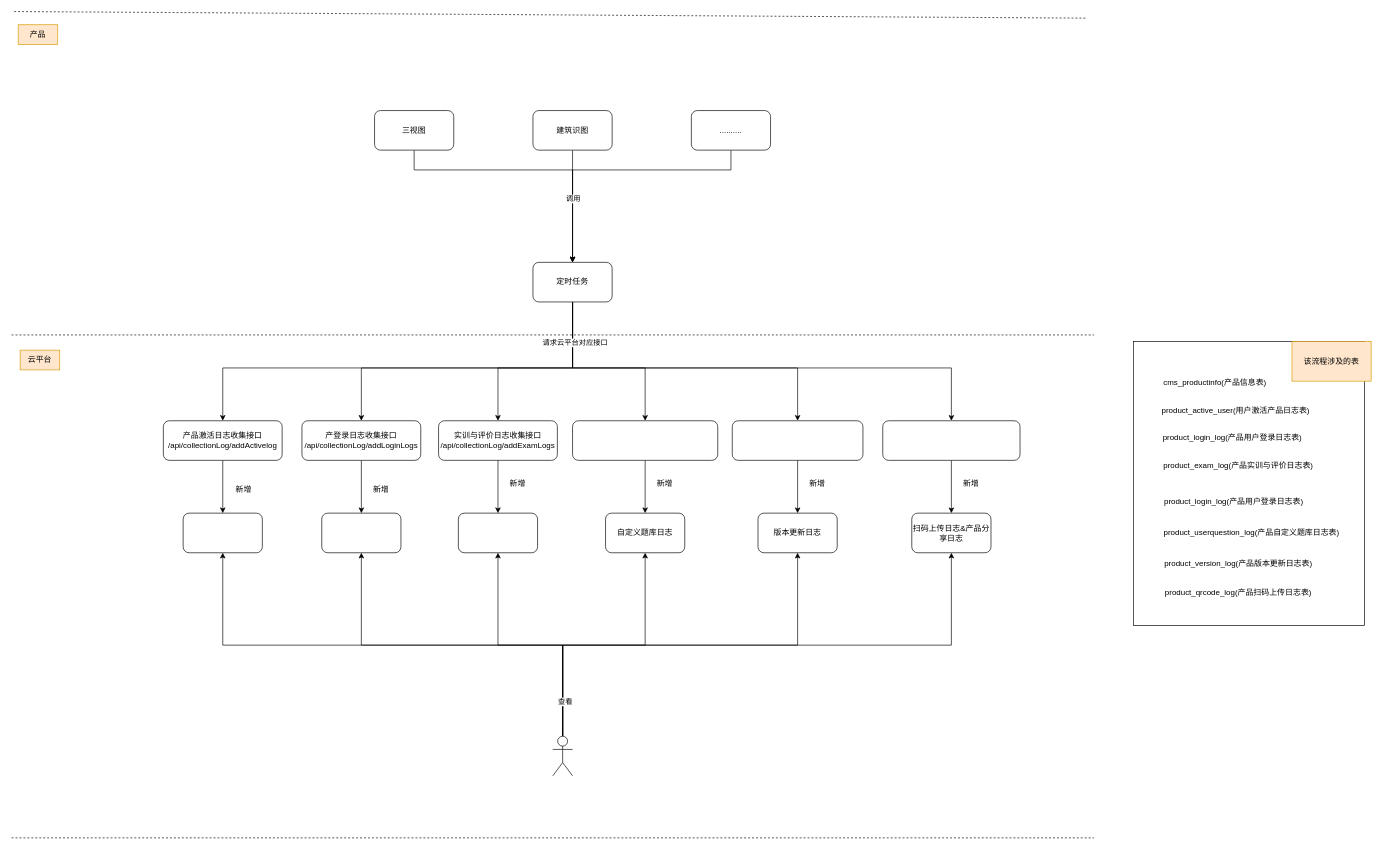
Image size: 1383x850. Some labels were removed from this diagram. The centre of each missing label's shape, as x and y in pixels:
"产品激活日志" belongs at (222,532).
"产品登录日志" belongs at (361,532).
"实训与评价日志" belongs at (498,532).
"扫码上传日志收集接口 /api/collectionLog/getExamDataInfo" belongs at (951,440).
"版本更新日志收集接口 /api/collectionLog/addVersionLogs" belongs at (797,440).
"管理员" belongs at (562,756).
"自定义题库日志收集接口 /api/collectionLog/addUserQuestionLogs" belongs at (645,440).
